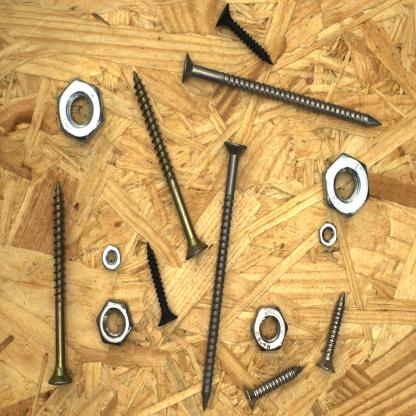screw: (180, 49, 386, 130), (130, 69, 210, 263), (198, 137, 249, 414), (44, 176, 76, 388), (214, 1, 277, 70), (144, 237, 180, 330), (242, 364, 306, 412), (313, 289, 348, 375)
